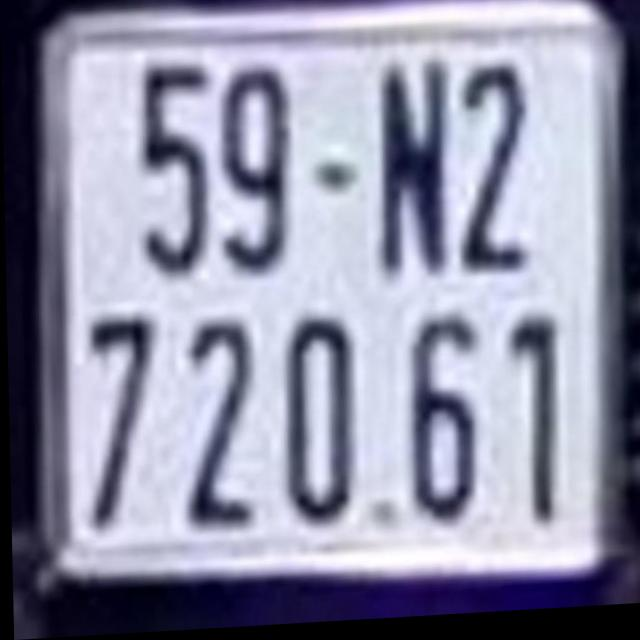0: (281, 316, 355, 529)
1: (501, 312, 561, 534)
2: (178, 314, 266, 533), (460, 67, 526, 275)
5: (136, 57, 213, 273)
6: (403, 316, 490, 531)
7: (86, 318, 152, 535)
9: (219, 70, 293, 278)
N: (378, 67, 454, 281)
